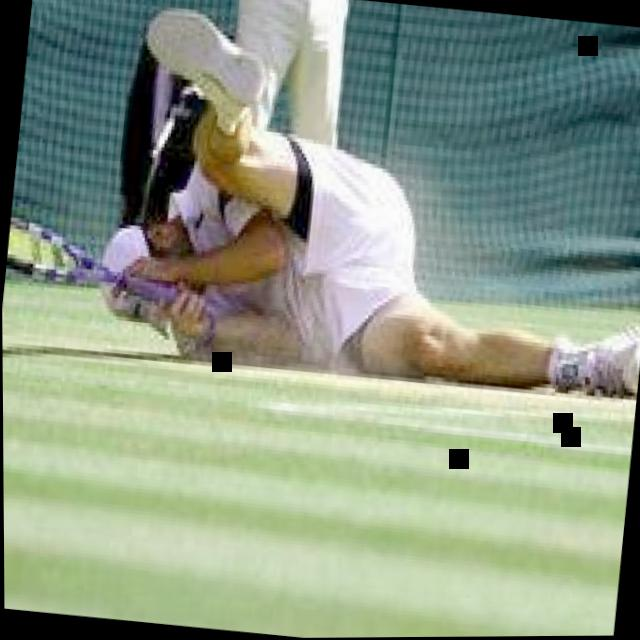Fall-Detected: (98, 0, 640, 411)
